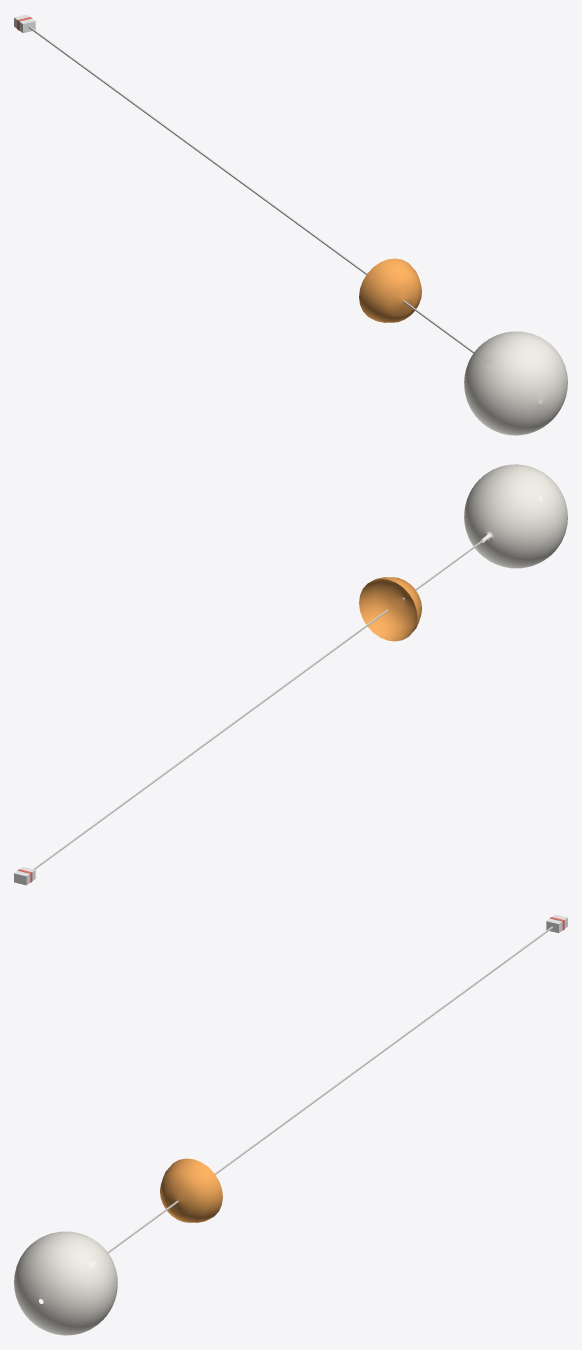
The model's file is balloon.glb.
3 views of the same model, one above another, from view 1: azimuth 30°, elevation 25°; view 2: azimuth 150°, elevation 25°; view 3: azimuth 330°, elevation 25° (orthographic).
Parts seen in each view (by area): view 1: weather-balloon; view 2: weather-balloon; view 3: weather-balloon.
Boxes of the visible parts, x1=… form: weather-balloon: x1=14, y1=14, x2=567, y2=435; weather-balloon: x1=14, y1=464, x2=567, y2=885; weather-balloon: x1=14, y1=914, x2=567, y2=1335.
Bounding box in the file's own units: 2.29 × 2.29 × 22.85.
Materials: 2 (2 with a texture image).
